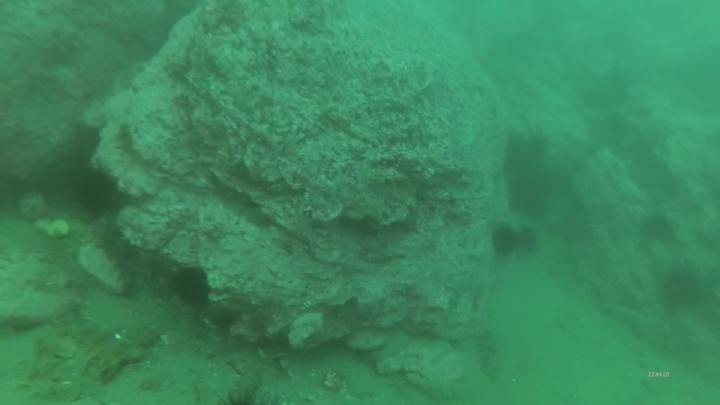echinus: (66, 162, 126, 224), (170, 261, 215, 311), (506, 179, 552, 220), (506, 134, 551, 174), (669, 269, 707, 313), (490, 224, 523, 259), (643, 212, 672, 242), (517, 224, 540, 255)
holothurian: (25, 350, 64, 400), (476, 329, 507, 389)
